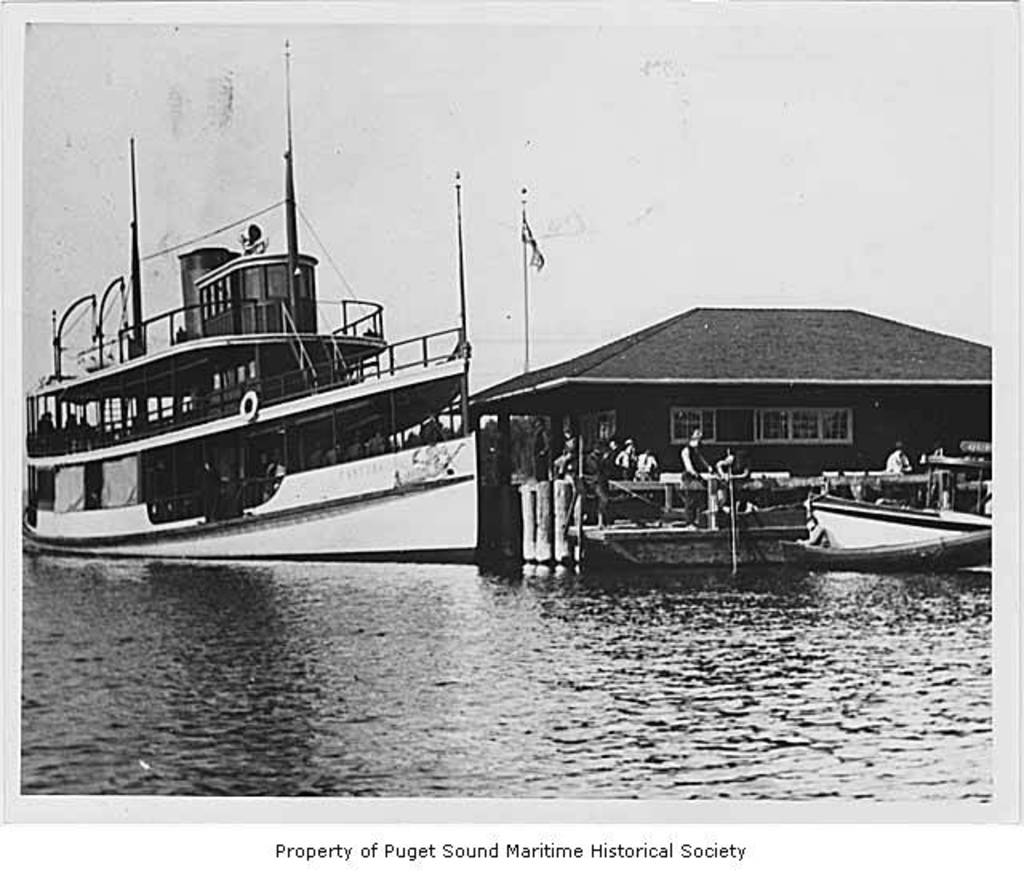boat: (29, 36, 494, 615)
